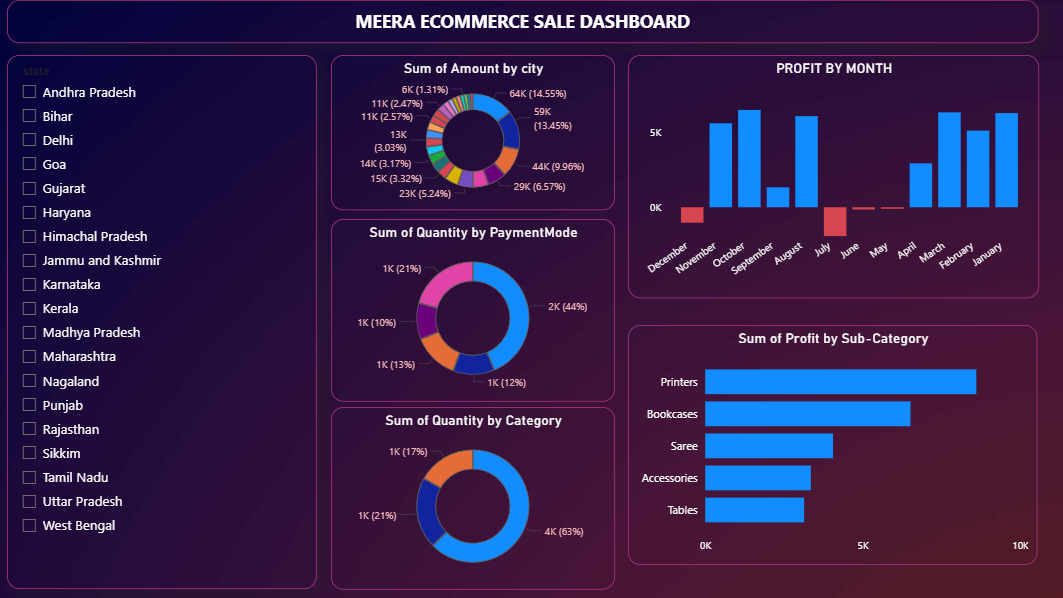

Layout of this report page (visuals, bound fields, positions):
{"tool":"powerbi","page":{"name":"Page 1","canvas":[1280,720],"ordinal":0},"visuals":[{"type":"textbox","box":[9.9,0,1241.6,52.4],"z":0},{"type":"columnChart","title":"PROFIT BY MONTH","fields":{"Category":["Orders.order date.Variation.Date Hierarchy.Month"],"Y":["Sum(Details.Profit)"]},"box":[756.9,66.6,494.6,293.4],"z":1000},{"type":"barChart","fields":{"Category":["Details.Sub-Category"],"Y":["Sum(Details.Profit)"]},"box":[756.9,391.2,493.2,289.1],"z":2000},{"type":"donutChart","fields":{"Category":["Details.Category"],"Y":["Sum(Details.Quantity)"]},"box":[399.7,490.4,341.6,219.7],"z":3000},{"type":"donutChart","fields":{"Y":["Sum(Details.Quantity)"],"Series":["Details.PaymentMode"]},"box":[399.7,263.6,341.6,219.7],"z":4000},{"type":"slicer","fields":{"Values":["Orders.state"]},"box":[9.9,66.6,372.8,643.5],"z":5000},{"type":"pieChart","fields":{"Category":["Orders.city"],"Y":["Sum(Details.Amount)"]},"box":[399.7,66.6,341.6,187.1],"z":6000}]}

Visuals, with their boxes in screenshot pixels (x1, y1, x2, y2), scaled from the page's 1280x720 canvas onto the 1063x598 screenshot:
textbox: <bbox>8, 0, 1039, 44</bbox>
"PROFIT BY MONTH" columnChart: <bbox>629, 55, 1039, 299</bbox>
barChart - Details.Sub-Category x Sum(Details.Profit): <bbox>629, 325, 1038, 565</bbox>
donutChart - Details.Category x Sum(Details.Quantity): <bbox>332, 407, 616, 590</bbox>
donutChart - Sum(Details.Quantity) x Details.PaymentMode: <bbox>332, 219, 616, 401</bbox>
slicer - Orders.state: <bbox>8, 55, 318, 590</bbox>
pieChart - Orders.city x Sum(Details.Amount): <bbox>332, 55, 616, 211</bbox>
